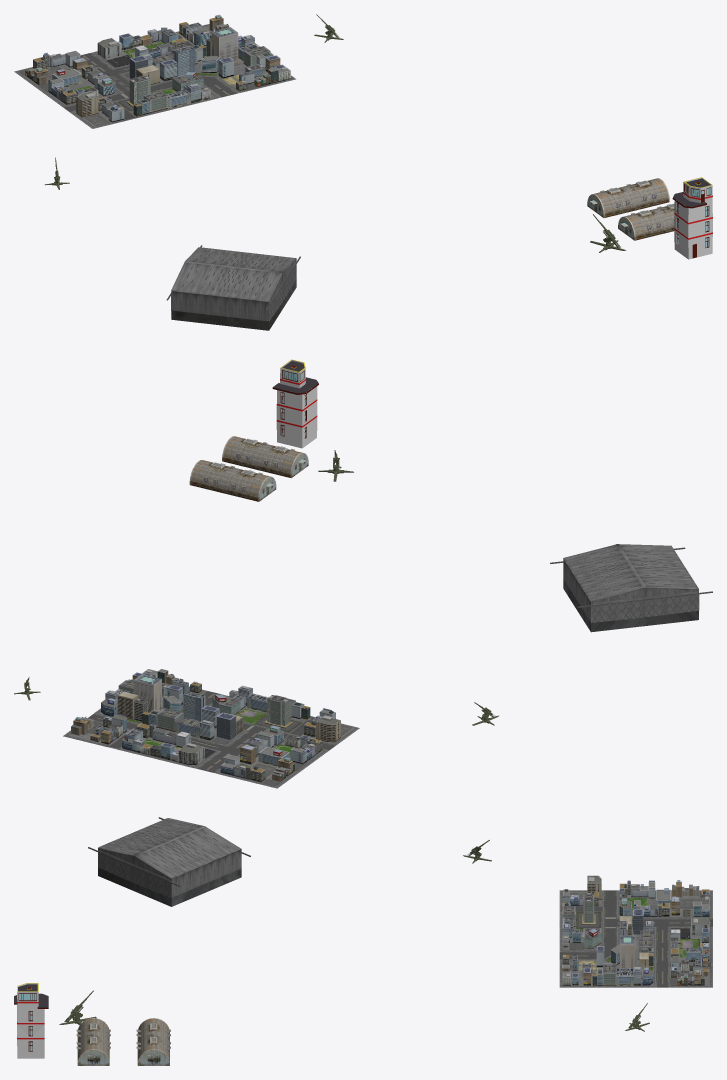
Rendered from Coventry.glb.
3 renders of one model, top to bottom at view 1: azimuth 30°, elevation 25°; view 2: azimuth 150°, elevation 25°; view 3: azimuth 270°, elevation 25°, orthographic. The views are drawn at different scales.
Parts seen in each view (by area): view 1: Object_32, Object_2, German.Control.Tower.1.700, Cylinder001_Barrack Texture Map_0.002, Cylinder001_Barrack Texture Map_0.001; view 2: Object_32, Object_2, German.Control.Tower.1.700, Cylinder001_Barrack Texture Map_0.001, Cylinder001_Barrack Texture Map_0.002; view 3: Object_32, Object_2, German.Control.Tower.1.700, Cylinder001_Barrack Texture Map_0.002, Cylinder001_Barrack Texture Map_0.001.
Boxes of the visible parts, <box> form: Object_32: <box>14,14,295,128</box>; Object_2: <box>166,245,300,330</box>; German.Control.Tower.1.700: <box>672,177,712,259</box>; Cylinder001_Barrack Texture Map_0.002: <box>587,178,669,217</box>; Cylinder001_Barrack Texture Map_0.001: <box>618,203,674,240</box>; Object_32: <box>63,669,359,788</box>; Object_2: <box>550,544,712,632</box>; German.Control.Tower.1.700: <box>272,359,318,448</box>; Cylinder001_Barrack Texture Map_0.001: <box>222,436,308,478</box>; Cylinder001_Barrack Texture Map_0.002: <box>189,460,276,501</box>; Object_32: <box>559,875,712,987</box>; Object_2: <box>88,817,250,906</box>; German.Control.Tower.1.700: <box>14,983,48,1058</box>; Cylinder001_Barrack Texture Map_0.002: <box>136,1018,170,1065</box>; Cylinder001_Barrack Texture Map_0.001: <box>76,1018,110,1065</box>.
Bounding box in the file's own units: 203 × 30.66 × 255.
Materials: 16 (4 with a texture image).
